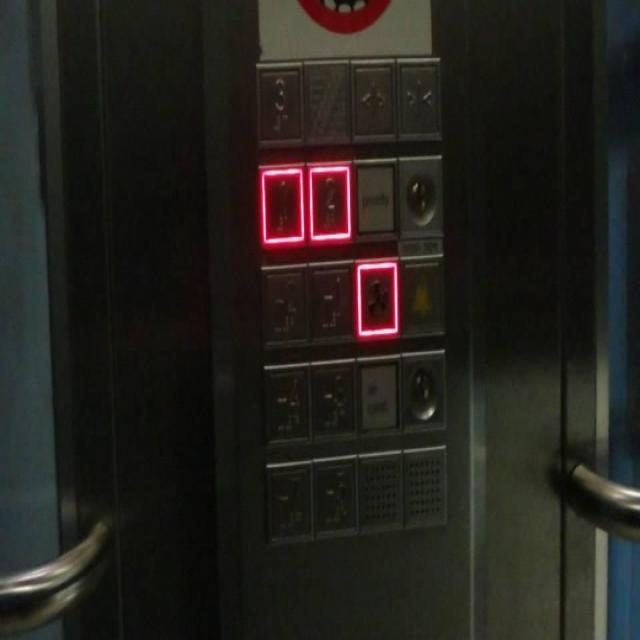-1: (306, 255, 356, 347)
-2: (260, 258, 308, 350)
-3: (308, 354, 357, 442)
-4: (260, 359, 310, 446)
-5: (311, 454, 358, 538)
-7: (265, 458, 312, 540)
1: (254, 158, 306, 246)
2: (306, 159, 351, 245)
3: (255, 53, 302, 145)
alarm: (397, 250, 445, 341)
blur: (302, 54, 350, 144)
close: (395, 52, 441, 144)
fan: (354, 252, 399, 342)
open: (348, 51, 397, 142)
speaker: (401, 444, 448, 531), (358, 449, 403, 537)
text_blur: (350, 154, 398, 244), (354, 350, 401, 440)
unknown: (395, 153, 445, 243), (400, 346, 447, 435)
